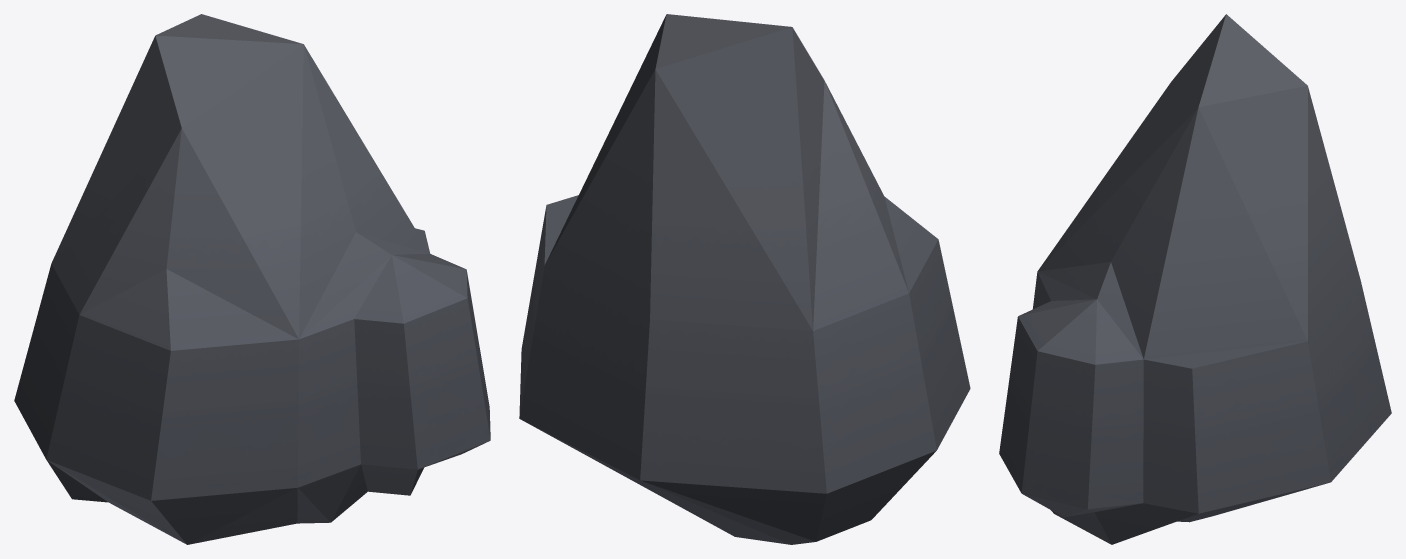
File: Rock_004.FBX
The picture shows the model from 3 angles, left to right: view 1: azimuth 30°, elevation 25°; view 2: azimuth 150°, elevation 25°; view 3: azimuth 270°, elevation 25°; orthographic projection. The views are drawn at different scales.
Visible parts, largest first — view 1: Rock_004; view 2: Rock_004; view 3: Rock_004.
Boxes of the visible parts, box(x1,y1,x2,y2) form: Rock_004: box(14, 14, 490, 544); Rock_004: box(519, 14, 970, 544); Rock_004: box(999, 14, 1391, 544).
Size of the model in its own units: 2.31 by 2.77 by 2.05.
Materials: 1 (1 with a texture image).
